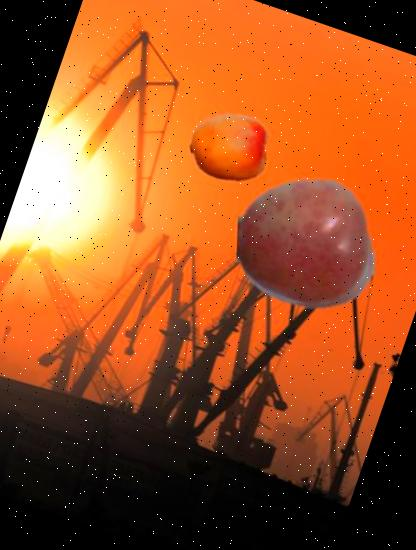Apricot: (180, 98, 282, 200)
Cherry: (218, 155, 394, 332)
